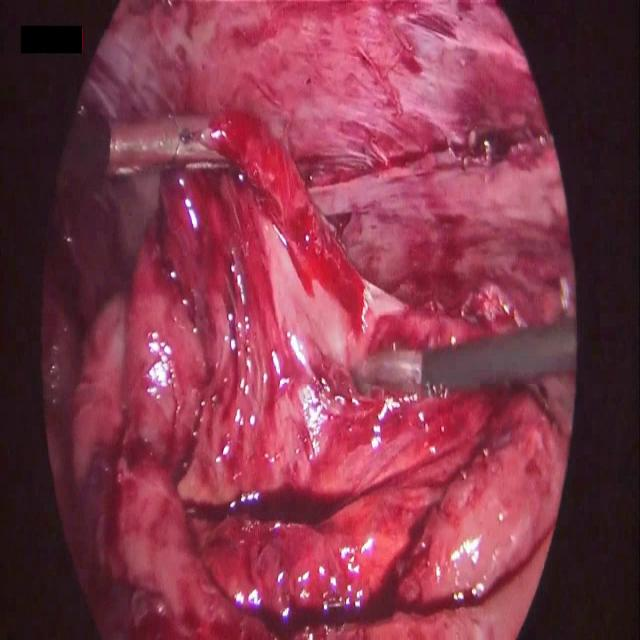surgical-area: (37, 0, 579, 639)
surgical-tool: (354, 308, 579, 402), (100, 107, 248, 178)
